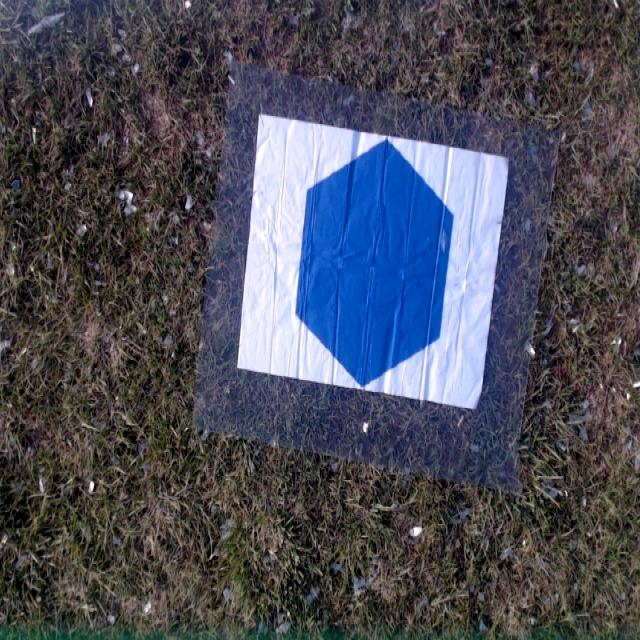blue_hexagon: (294, 137, 452, 388)
